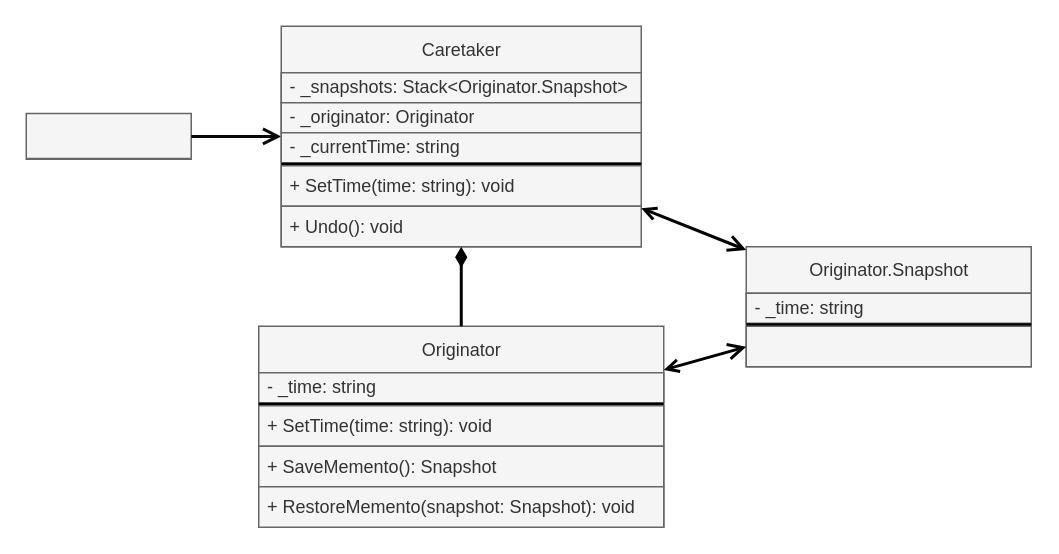
Some shapes in this 1059 by 554 pixel diagram are drawn without their labels. Each missing label, with the centre of its shape:
+ GetTime(): string: point 888,346
Program: point 108,135
